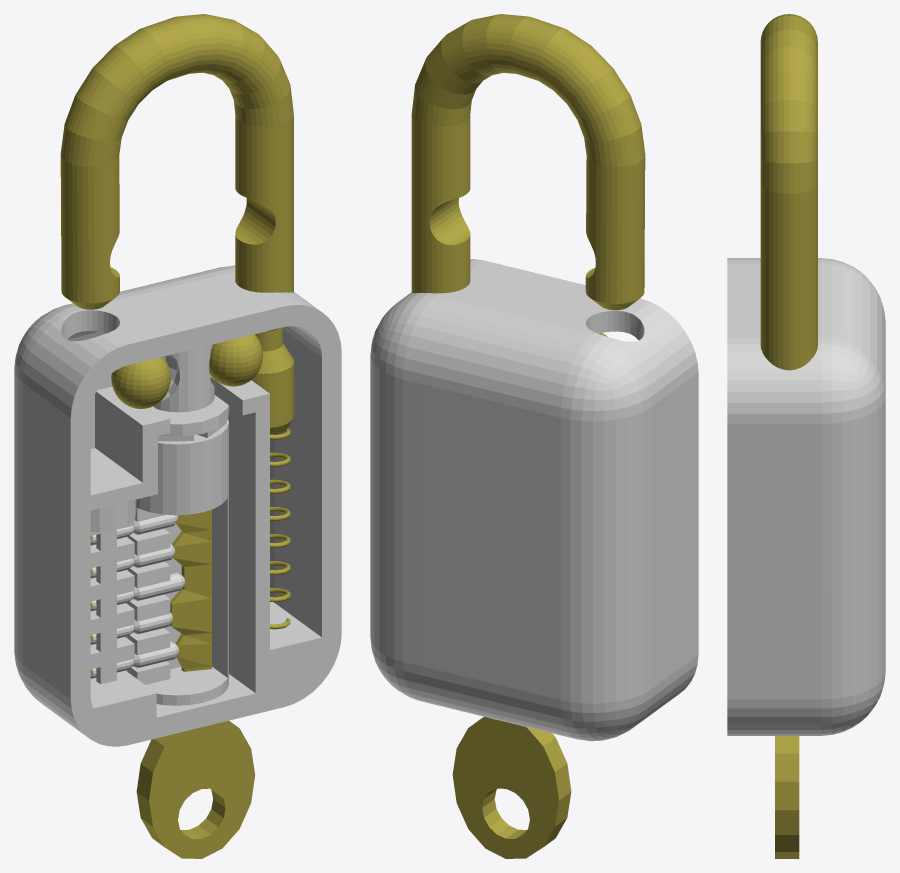
The model's file is klodka.fbx.
3 renders of one model, left to right at view 1: azimuth 30°, elevation 25°; view 2: azimuth 150°, elevation 25°; view 3: azimuth 270°, elevation 25°, orthographic. The views are drawn at different scales.
Visible parts, largest first — view 1: obudowa, luk, mechanizm, klucz, kulki, cylinder na kulki, lozysko, sprezyna glowna; view 2: obudowa, luk, klucz; view 3: obudowa, luk, klucz.
Boxes of the visible parts, x1,y1,x2,y2 form: obudowa: (14, 265, 341, 746); luk: (60, 14, 293, 434); mechanizm: (125, 420, 228, 705); klucz: (136, 509, 254, 858); kulki: (111, 334, 262, 408); cylinder na kulki: (153, 344, 214, 412); lozysko: (157, 395, 229, 441); sprezyna glowna: (270, 428, 290, 629); obudowa: (370, 259, 698, 741); luk: (411, 14, 645, 310); klucz: (452, 716, 571, 858); obudowa: (727, 258, 885, 735); luk: (760, 14, 817, 370); klucz: (775, 736, 799, 858).
Bounding box in the file's own units: 6.65 × 19.64 × 3.44.
